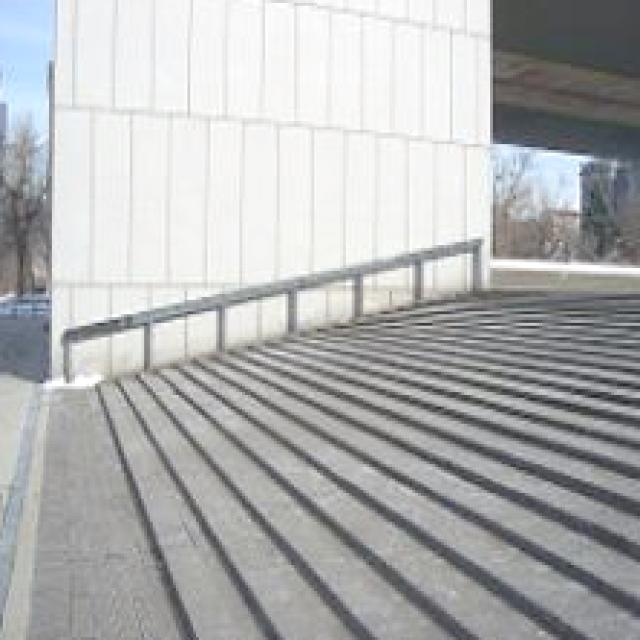upstair: (203, 295, 621, 615)
